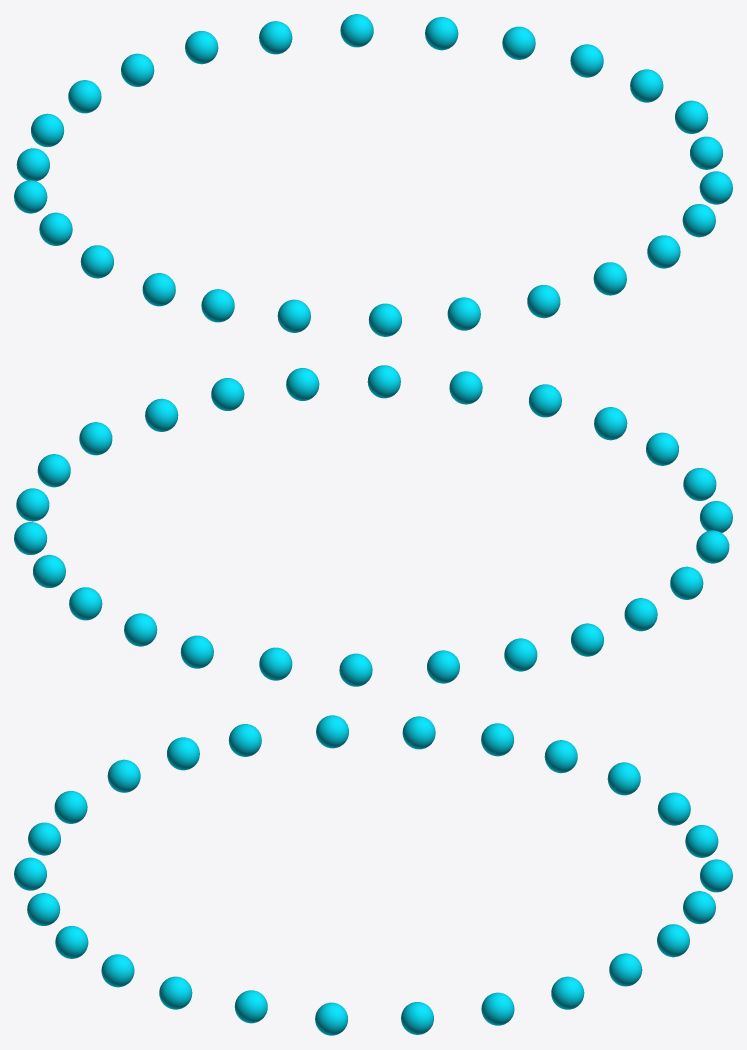
3 renders of one model, top to bottom at view 1: azimuth 30°, elevation 25°; view 2: azimuth 150°, elevation 25°; view 3: azimuth 270°, elevation 25°, orthographic.
Parts seen in each view (by area): view 1: Sphere050; view 2: Sphere050; view 3: Sphere050.
Boxes of the visible parts, bbox=[...] form: Sphere050: bbox=[14, 14, 732, 336]; Sphere050: bbox=[14, 365, 732, 686]; Sphere050: bbox=[14, 715, 732, 1035].
Size of the model in its own units: 177 by 8.22 by 178.
